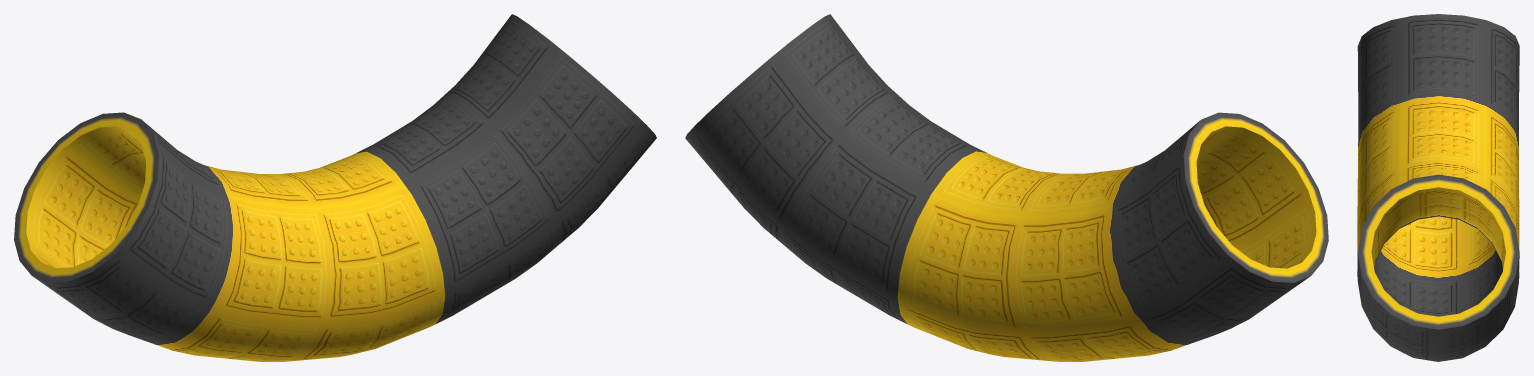
The model's file is road2.fbx.
The picture shows the model from 3 angles, left to right: view 1: azimuth 30°, elevation 25°; view 2: azimuth 150°, elevation 25°; view 3: azimuth 270°, elevation 25°; orthographic projection. The views are drawn at different scales.
Visible parts, largest first — view 1: road2; view 2: road2; view 3: road2.
Part boxes in pixels (x1,y1,x2,y2): road2: (14, 14, 656, 361); road2: (685, 14, 1328, 361); road2: (1357, 14, 1519, 361).
Bounding box in the file's own units: 8819 × 3819 × 2408.
Materials: 1 (1 with a texture image).
